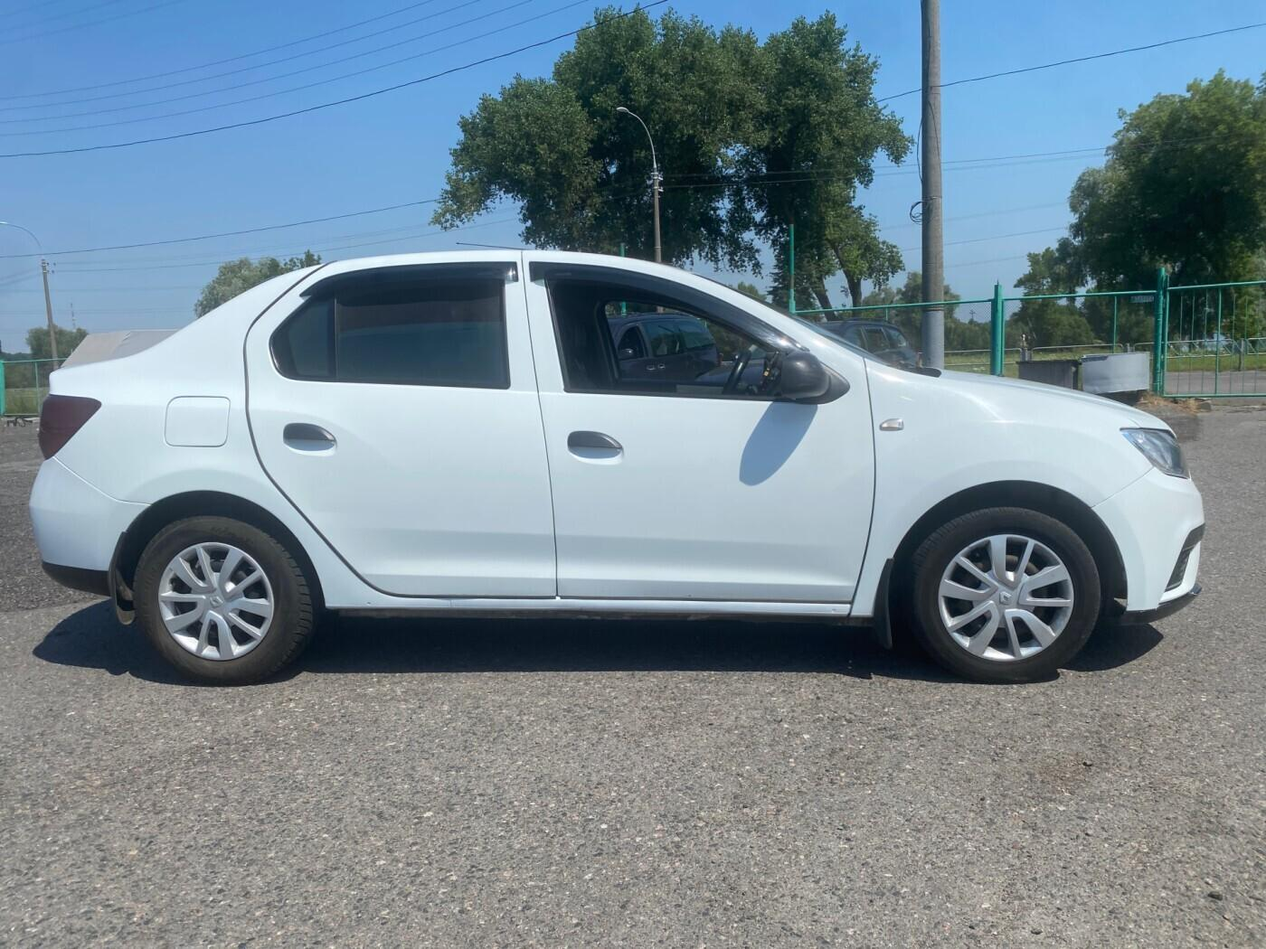Logan_2018: (26, 244, 1209, 686)
